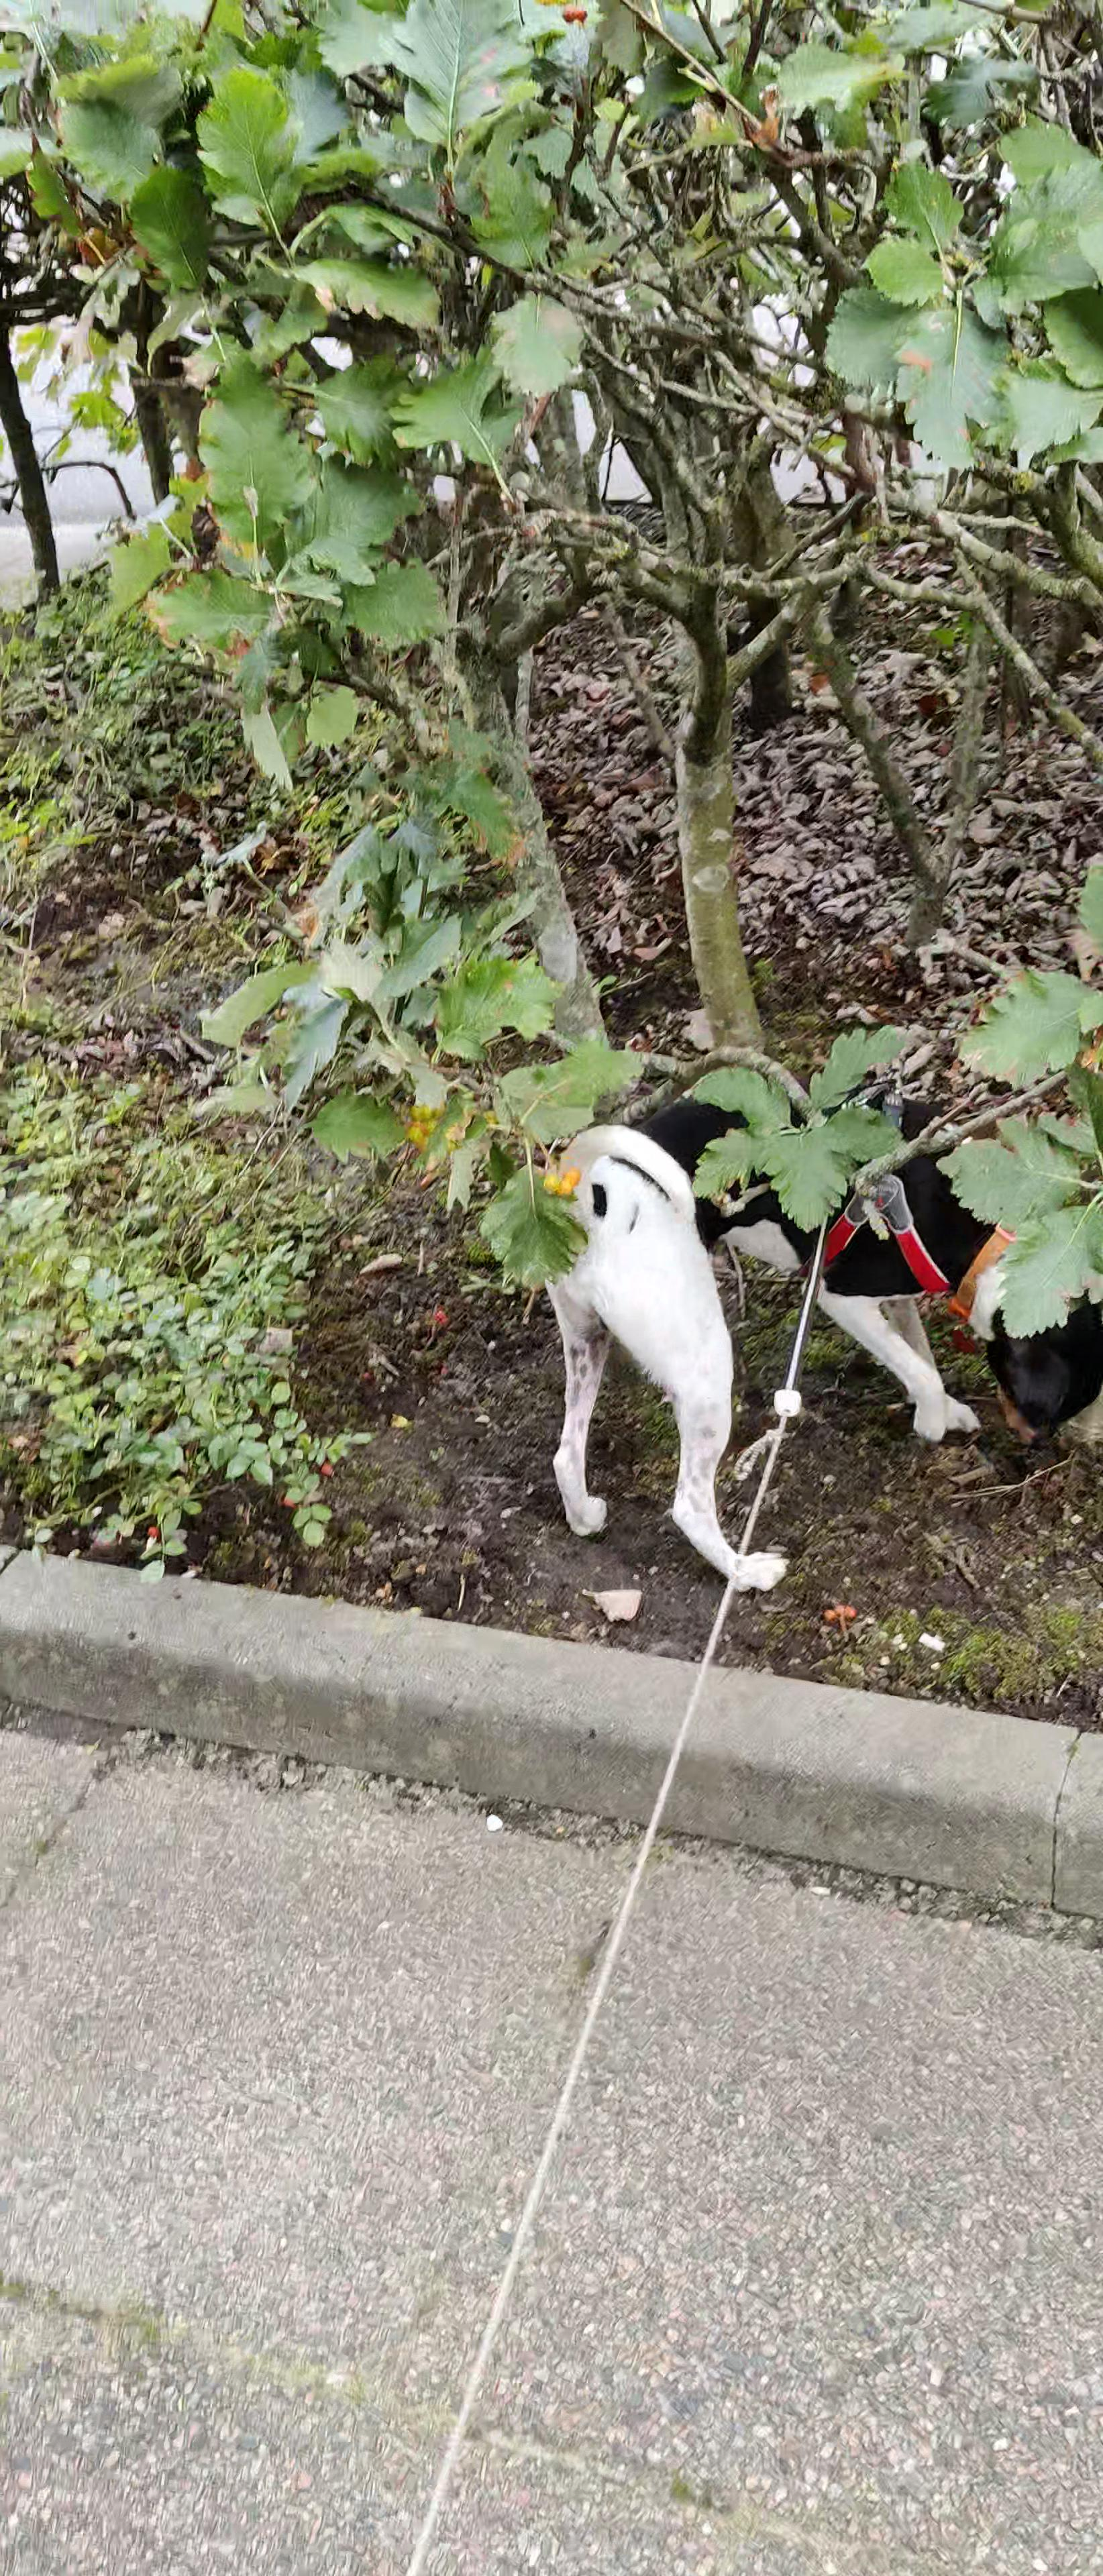Dog: (495, 1046, 1103, 1610)
